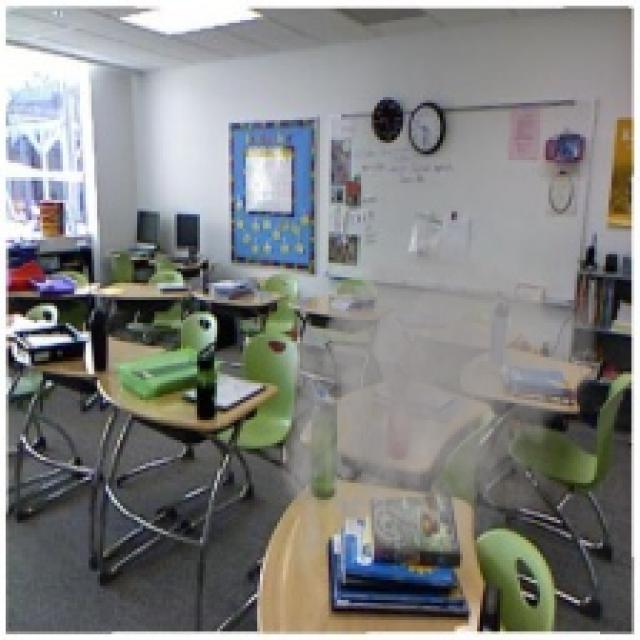smoke: (263, 208, 608, 592)
